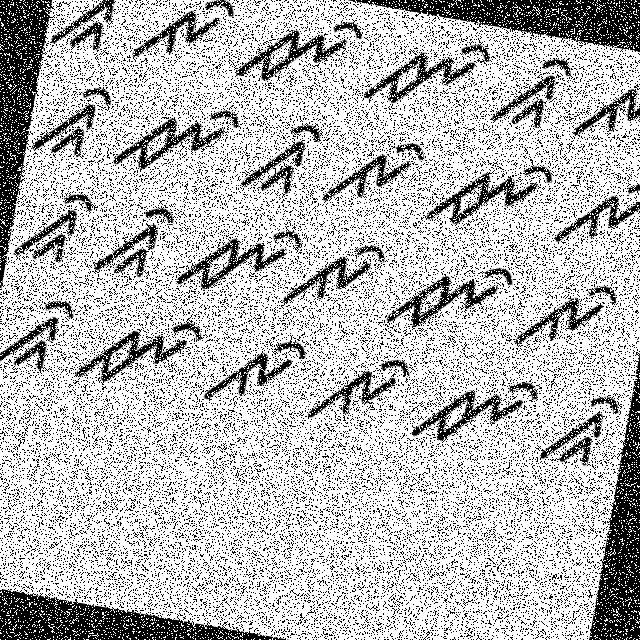ay: (194, 314, 313, 430), (508, 269, 634, 368), (302, 336, 416, 438), (319, 118, 432, 220), (290, 230, 393, 330), (549, 160, 639, 267), (129, 0, 239, 82), (572, 55, 639, 158)
nggay: (485, 36, 580, 150), (87, 192, 184, 296), (534, 382, 627, 489), (27, 72, 118, 172), (10, 177, 99, 277), (238, 108, 326, 207), (0, 281, 82, 387), (43, 0, 137, 65)
njay: (356, 13, 498, 132), (228, 0, 369, 115), (72, 295, 208, 408), (109, 89, 248, 198), (406, 360, 543, 470), (385, 247, 519, 349), (423, 143, 558, 244), (173, 204, 299, 310)
